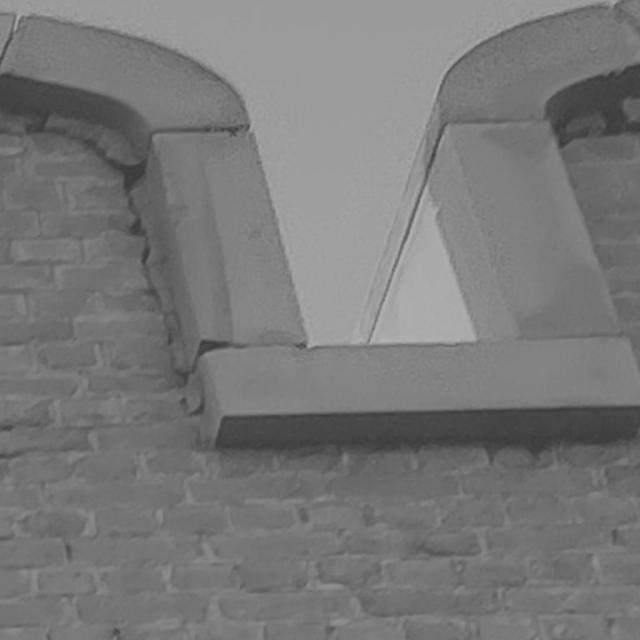crack: (25, 111, 204, 417), (548, 92, 640, 148)
